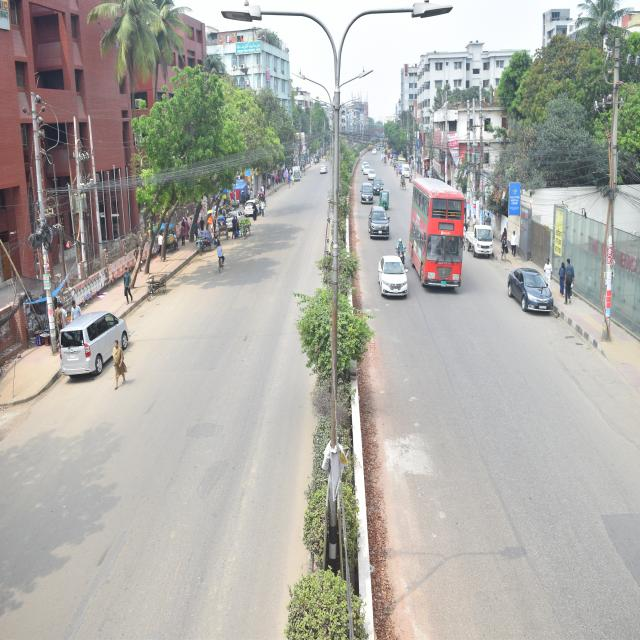bus: (410, 170, 466, 307)
car: (41, 295, 142, 380), (496, 262, 571, 324), (377, 252, 416, 319), (364, 204, 396, 250), (242, 186, 272, 225), (221, 196, 247, 236), (356, 176, 374, 208), (371, 172, 383, 200), (315, 158, 331, 179), (402, 166, 414, 182), (365, 164, 375, 182), (362, 164, 372, 180)
motorbike: (396, 227, 414, 275)
pickup-van: (463, 216, 496, 257)
